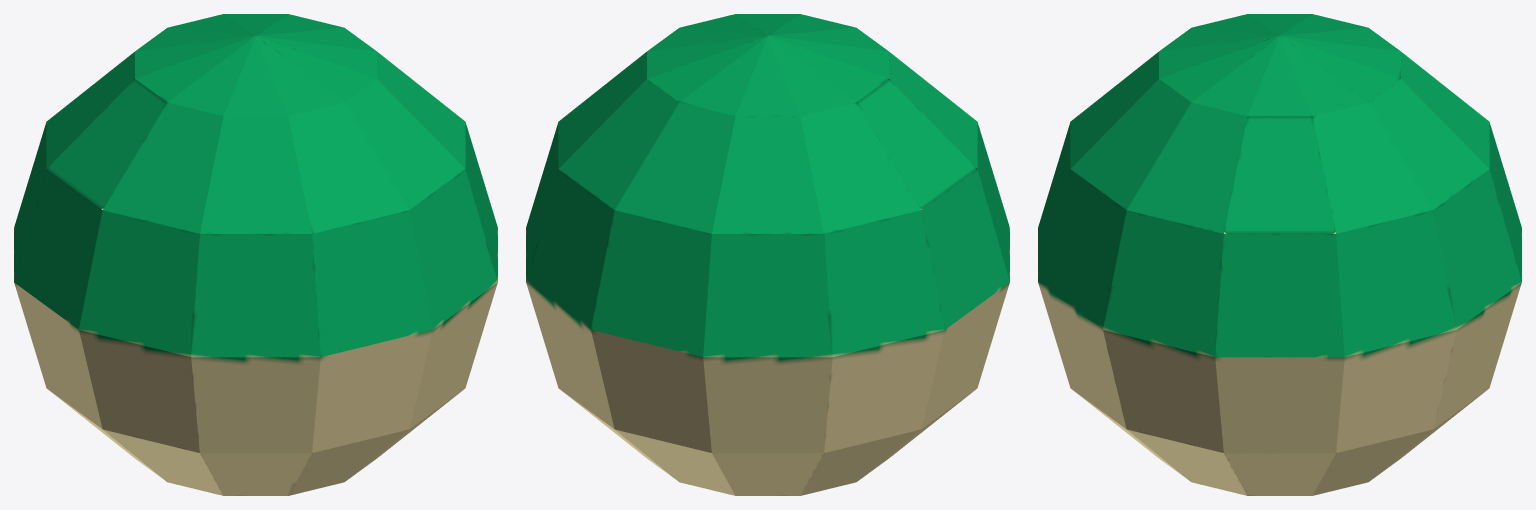
File: nyc_subway_entrance_1_globe_light_1g_light_layer.obj
3 views of the same model, side by side, from view 1: azimuth 30°, elevation 25°; view 2: azimuth 150°, elevation 25°; view 3: azimuth 270°, elevation 25° (orthographic).
Parts seen in each view (by area): view 1: sphere; view 2: sphere; view 3: sphere.
Boxes of the visible parts, x1=… form: sphere: x1=14, y1=14, x2=497, y2=495; sphere: x1=526, y1=14, x2=1009, y2=495; sphere: x1=1038, y1=14, x2=1521, y2=495.
Bounding box in the file's own units: 0.5006 × 0.5006 × 0.5006.
1 material, 1 textured.
